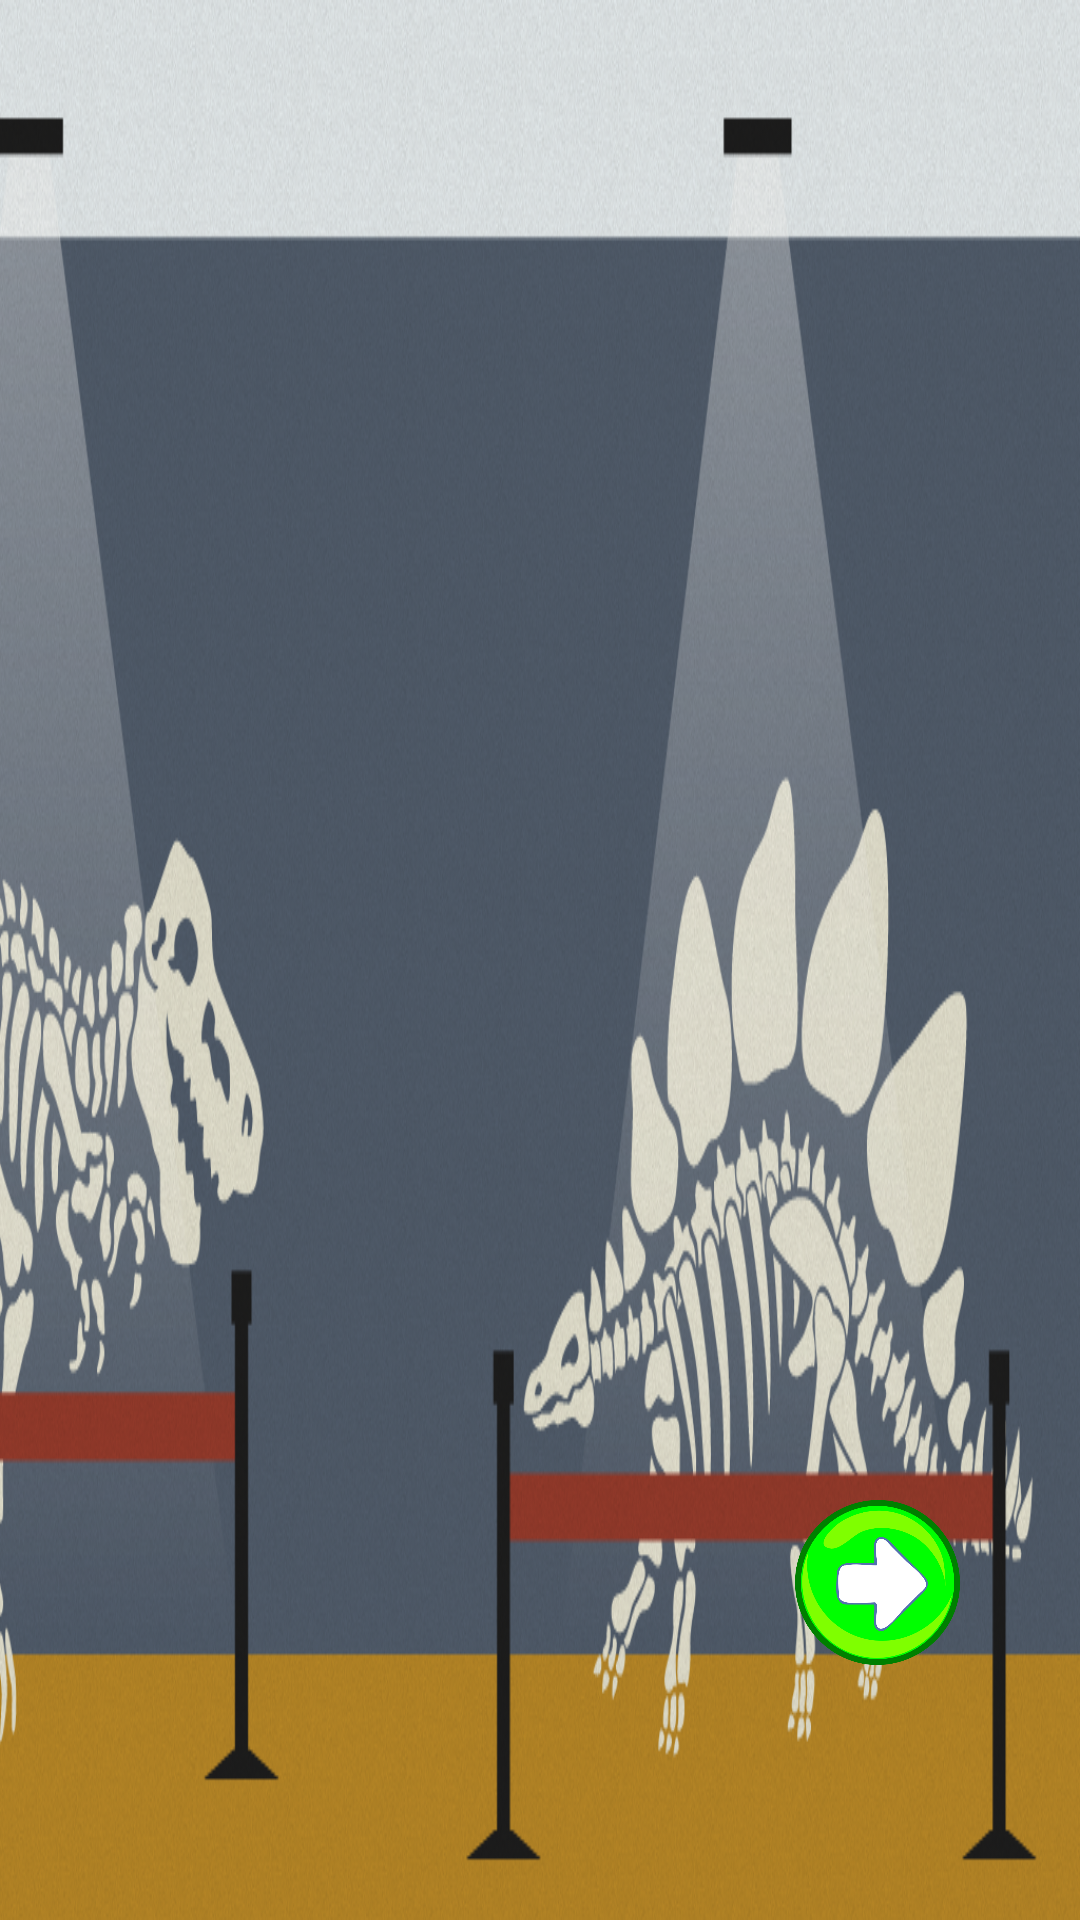

Icons on this 1080px x 1920px Android screen, each with the point to tap as (x,y):
accion: (877,1582)
